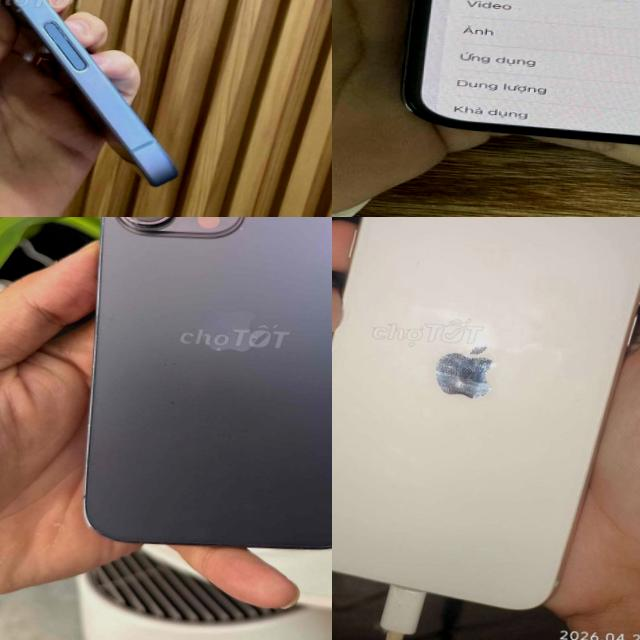gen_12_13: (404, 0, 640, 172)
gen_14: (77, 217, 332, 560)
gen_17: (0, 0, 200, 200)
gen_7_8: (332, 217, 640, 628)
scratch: (421, 333, 506, 400)
